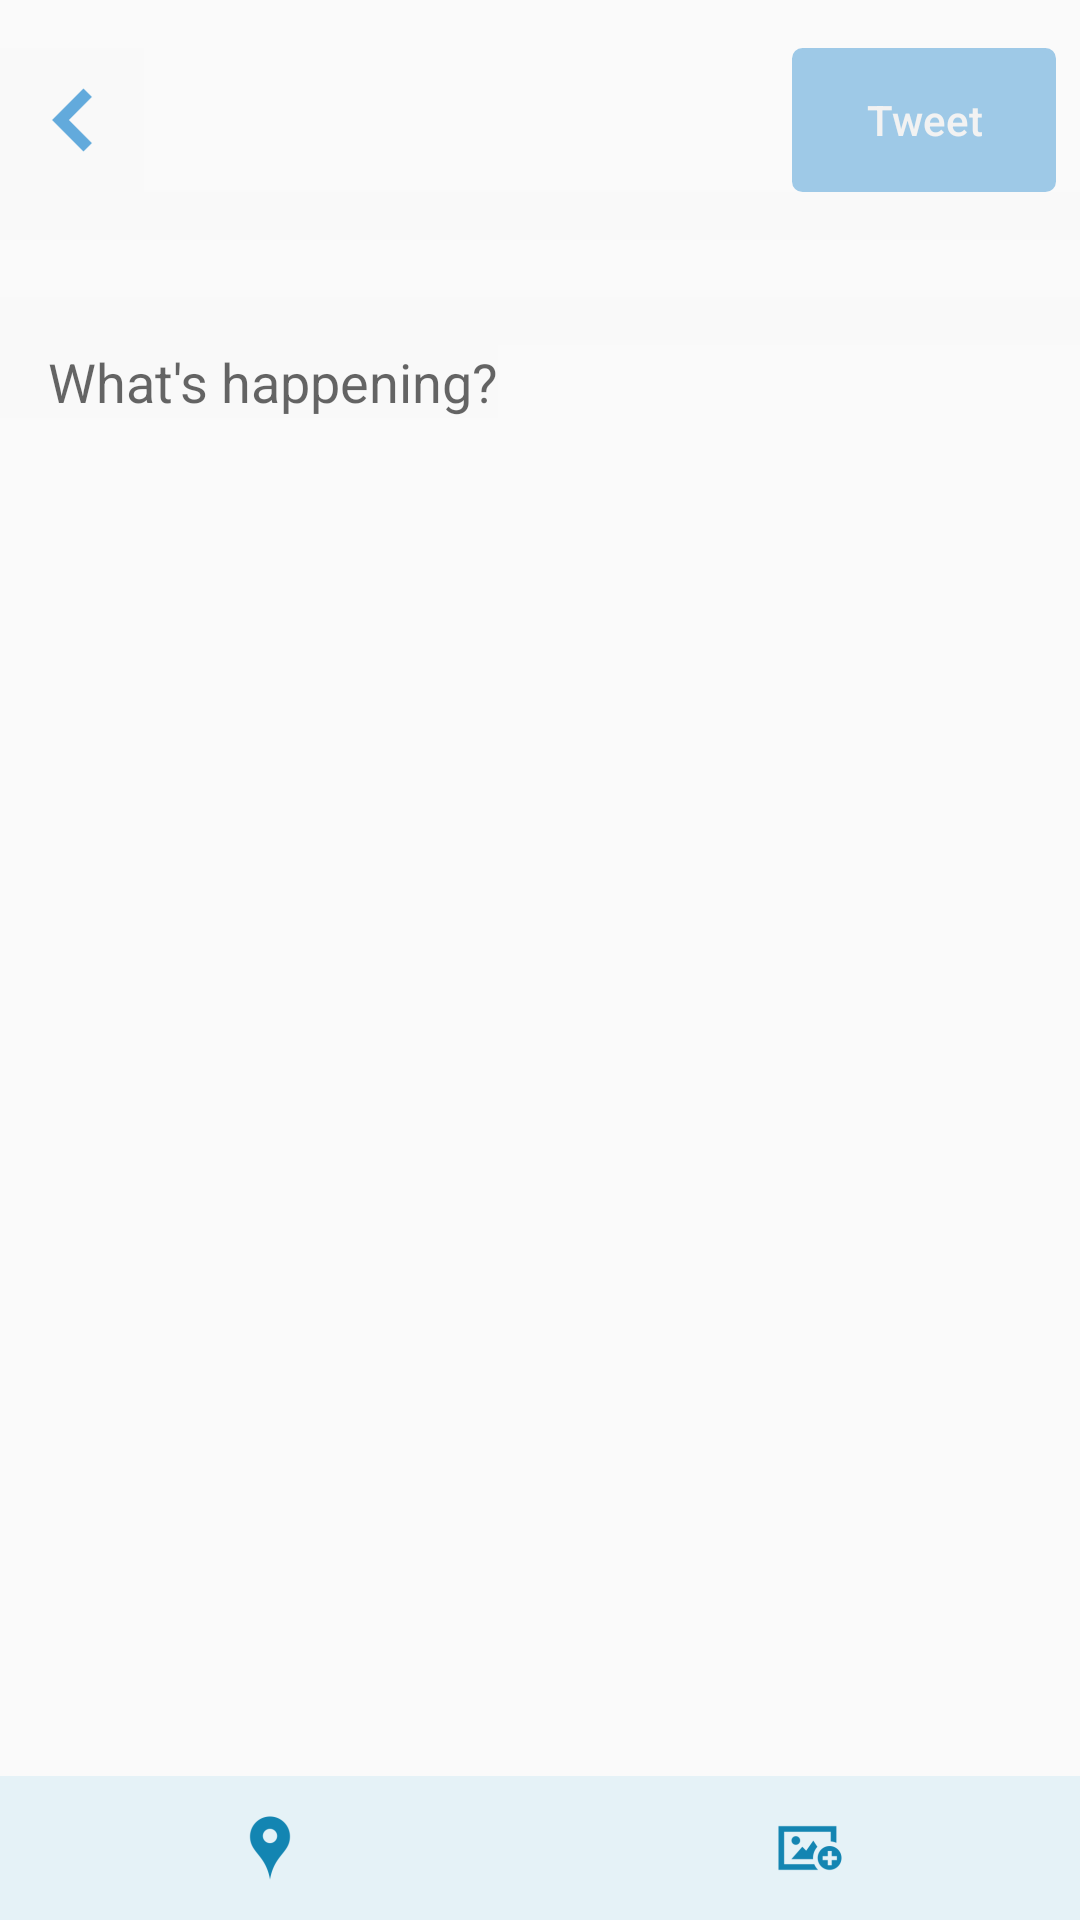

Locate icon controls on the screen. Image size 1080px x 1920px, boxes as [x1,y1,x2,y2].
addimage: [778,1825,842,1871]
back: [52,88,92,152]
location: [249,1816,291,1880]
